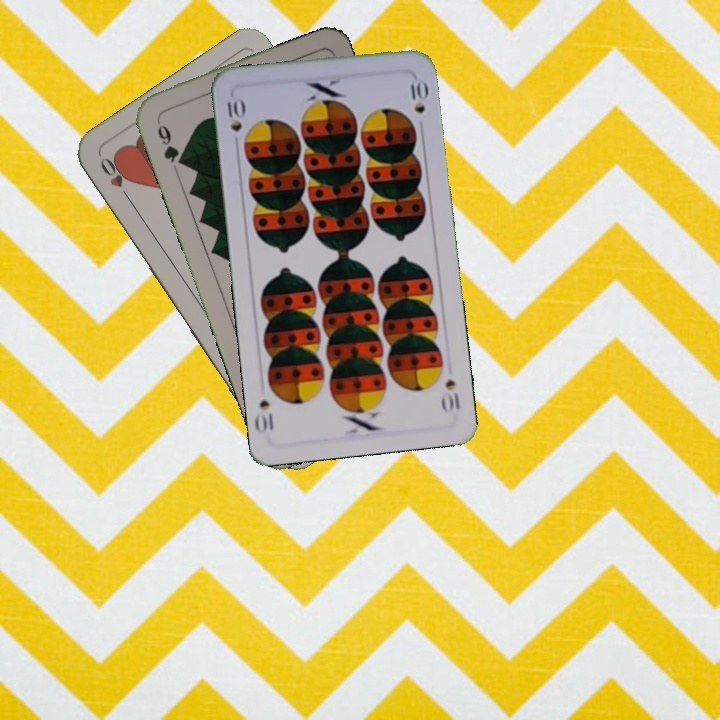G9: (152, 115, 188, 169)
HO: (95, 153, 134, 205)
S10: (222, 93, 247, 151), (438, 374, 462, 414)
